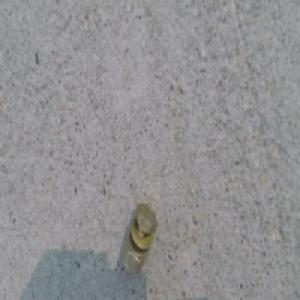BoltNutSet: (123, 201, 156, 273)
